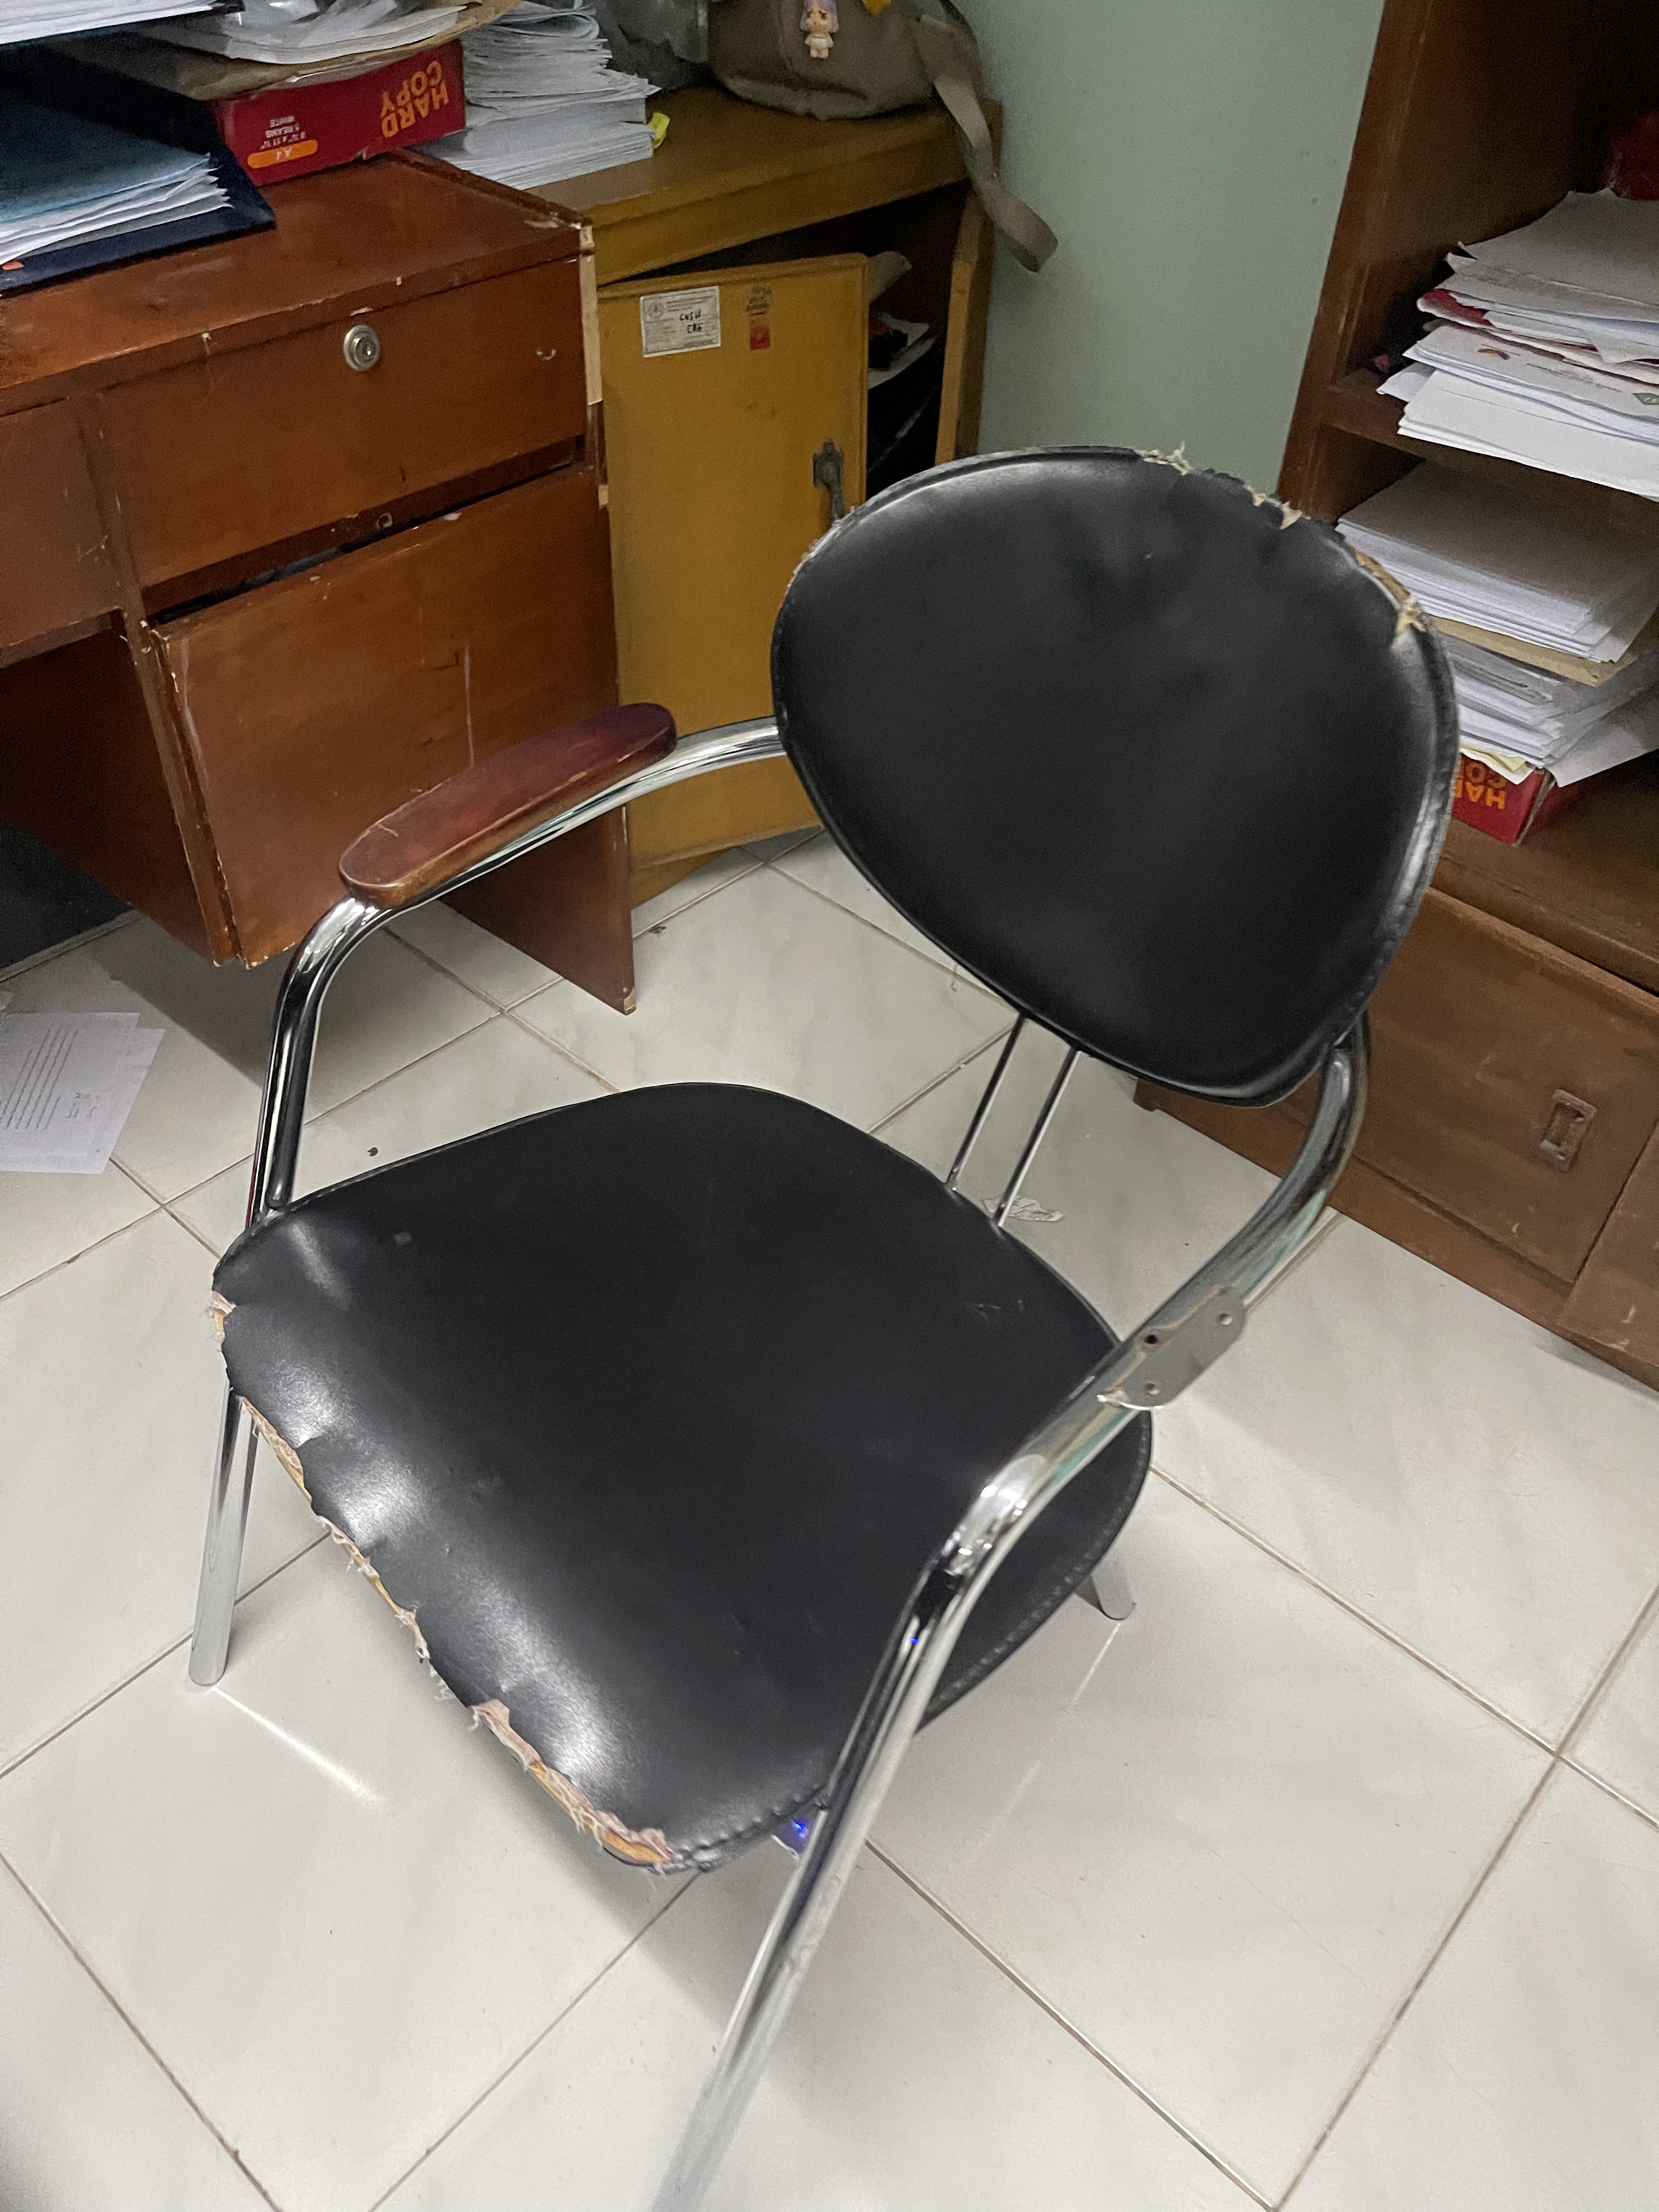chair1: (190, 432, 1464, 2212)
